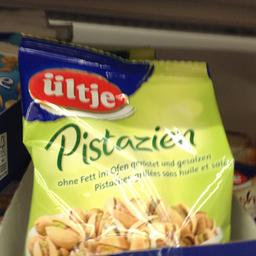nuts: (17, 30, 233, 255)
